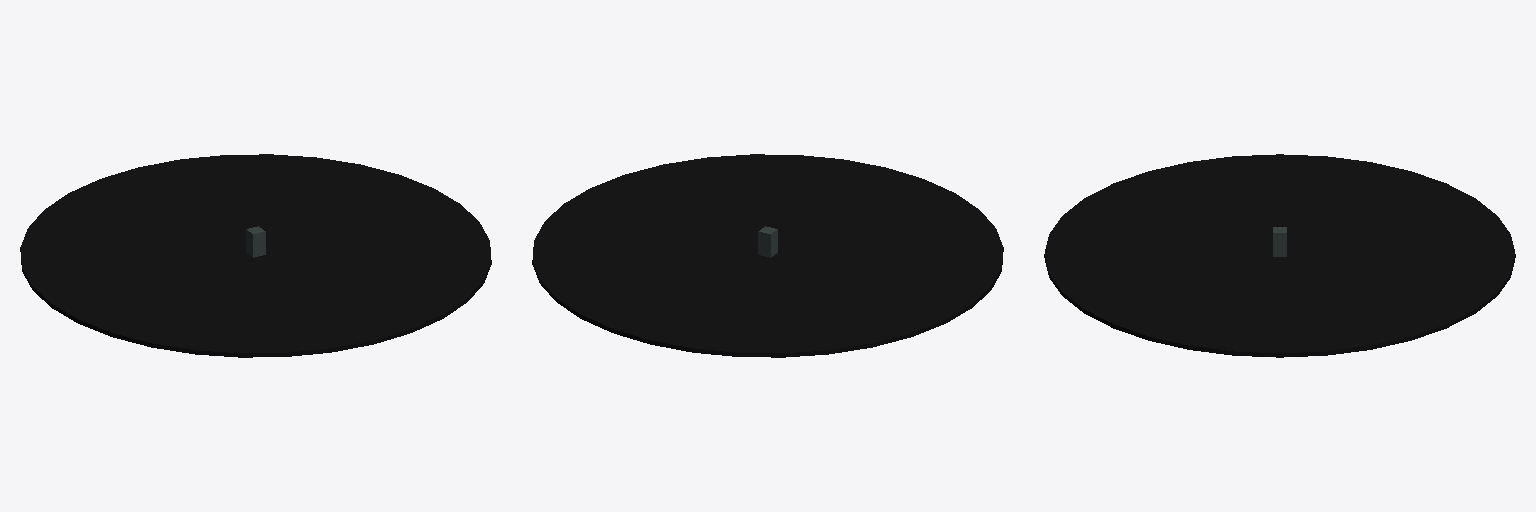
URDF robot description (two_arm_panda_tool):
<?xml version='1.0' encoding='utf-8'?>
<robot name="two_arm_panda_tool">


    <link name="base">
      <inertial>
        <origin xyz="0 0 0" rpy="0 0 0" />
        <mass value="4" />
        <inertia ixx="0.4" iyy="0.4" izz="0.4" ixy="0" ixz="0" iyz="0" />
      </inertial>
      <visual>
        <geometry>
          <cylinder radius="5" length="0.1"/>
        </geometry>
        <material name="material_gray">
          <color rgba="0.1 0.1 0.1 1.0" />
        </material>
      </visual>
<!--       <collision>
        <geometry>
          <cylinder radius="5" length="0.1"/>
        </geometry>
      </collision> -->
    </link>
    <link name="chest">
      <inertial>
        <origin xyz="0 0 0" rpy="0 0 0" />
        <mass value="4" />
        <inertia ixx="0.4" iyy="0.4" izz="0.4" ixy="0" ixz="0" iyz="0" />
      </inertial>
      <visual>
        <geometry>
          <box size="0.3 0.3 1.2"/>
        </geometry>
        <material name="material_red">
          <color rgba="0.27 0.3 0.3 1.0" />
        </material>        
      </visual>
<!--       <visual>
        <origin xyz="0 0 0.8" rpy="0 0 0" />
        <geometry>
          <sphere radius="0.15"/>
        </geometry>
        <material name="material_red">
          <color rgba="0.3 0.5 0.3 1.0" />
        </material>        
      </visual>
      <visual>
        <origin xyz="0 0 0.59" rpy="0 0 0" />
        <geometry>
          <cylinder radius="0.08" length="0.1"/>
        </geometry>
        <material name="material_red">
          <color rgba="0.3 0.3 0.5 1.0" />
        </material>        
      </visual> -->
      <visual>
        <origin xyz="0 0.15 0.5" rpy="-1.57079632679 0 0" />
        <geometry>
          <mesh filename="../../../Model/meshes/visual/link0.obj"/>
        </geometry>
      </visual>
      <visual>
        <origin xyz="0 -0.15 0.5" rpy="1.57079632679 0 0" />
        <geometry>
          <mesh filename="../../../Model/meshes/visual/link0.obj"/>
        </geometry>
      </visual>
<!--       <collision>
        <geometry>
          <box size="0.2 0.2 1.6"/>
        </geometry>
      </collision> -->
    </link>

<!--   LEFT ARM     -->

    <link name="left_arm_link1">
      <inertial>
        <origin xyz="0 0 -0.07" rpy="0 -0 0" />
        <mass value="3" />
        <inertia ixx="0.3" iyy="0.3" izz="0.3" ixy="0" ixz="0" iyz="0" />
      </inertial>
      <visual>
        <geometry>
          <mesh filename="../../../Model/meshes/visual/link1.obj"/>
        </geometry>
      </visual>
      <!-- <collision>
        <geometry>
          <mesh filename="../../../Model/meshes/collision/link1.obj"/>
        </geometry>
      </collision> -->
    </link>
    <link name="left_arm_link2">
      <inertial>
        <origin xyz="0 -0.1 0" rpy="0 -0 0" />
        <mass value="3" />
        <inertia ixx="0.3" iyy="0.3" izz="0.3" ixy="0" ixz="0" iyz="0" />
      </inertial>
      <visual>
        <geometry>
          <mesh filename="../../../Model/meshes/visual/link2.obj"/>
        </geometry>
      </visual>
      <!-- <collision>
        <geometry>
          <mesh filename="../../../Model/meshes/collision/link2.obj"/>
        </geometry>
      </collision> -->
    </link>
    <link name="left_arm_link3">
      <inertial>
        <origin xyz="0.04 0 -0.05" rpy="0 -0 0" />
        <mass value="2" />
        <inertia ixx="0.2" iyy="0.2" izz="0.2" ixy="0" ixz="0" iyz="0" />
      </inertial>
      <visual>
        <geometry>
          <mesh filename="../../../Model/meshes/visual/link3.obj"/>
        </geometry>
      </visual>
      <!-- <collision>
        <geometry>
          <mesh filename="../../../Model/meshes/collision/link3.obj"/>
        </geometry>
      </collision> -->
    </link>
    <link name="left_arm_link4">
      <inertial>
        <origin xyz="-0.04 0.05 0" rpy="0 -0 0" />
        <mass value="2" />
        <inertia ixx="0.2" iyy="0.2" izz="0.2" ixy="0" ixz="0" iyz="0" />
      </inertial>
      <visual>
        <geometry>
          <mesh filename="../../../Model/meshes/visual/link4.obj"/>
        </geometry>
      </visual>
<!--       <collision>
        <geometry>
          <mesh filename="../../../Model/meshes/collision/link4.obj"/>
        </geometry>
      </collision> -->
    </link>
    <link name="left_arm_link5">
      <inertial>
        <origin xyz="0 0 -0.15" rpy="0 -0 0" />
        <mass value="2" />
        <inertia ixx="0.2" iyy="0.2" izz="0.2" ixy="0" ixz="0" iyz="0" />
      </inertial>
      <visual>
        <geometry>
          <mesh filename="../../../Model/meshes/visual/link5.obj"/>
        </geometry>
      </visual>
<!--       <collision>
        <geometry>
          <mesh filename="../../../Model/meshes/collision/link5.obj"/>
        </geometry>
      </collision> -->
    </link>
    <link name="left_arm_link6">
      <inertial>
        <origin xyz="0.06 0 0" rpy="0 -0 0" />
        <mass value="1.5" />
        <inertia ixx="0.1" iyy="0.1" izz="0.1" ixy="0" ixz="0" iyz="0" />
      </inertial>
      <visual>
        <geometry>
          <mesh filename="../../../Model/meshes/visual/link6.obj"/>
        </geometry>
      </visual>
      <!-- <collision>
        <geometry>
          <mesh filename="../../../Model/meshes/collision/link6.obj"/>
        </geometry>
      </collision> -->
    </link>
    <link name="left_arm_link7">
      <inertial>
        <origin xyz="0 0 0.17" rpy="0 -0 0" />
        <mass value="1.8" />
        <inertia ixx="0.09" iyy="0.05" izz="0.07" ixy="0" ixz="0" iyz="0" />
      </inertial>
      <visual>
        <geometry>
          <mesh filename="../../../Model/meshes/visual/link7.obj"/>
        </geometry>
      </visual>
      <!-- <collision>
        <geometry>
          <mesh filename="../../../Model/meshes/collision/link7.obj"/>
        </geometry>
      </collision> -->
      <visual>
        <origin xyz="0 0 0.107" rpy="0 0 -0.78539816339" />
        <geometry>
          <mesh filename="../../../Model/meshes/visual/hand.obj"/>
        </geometry>
      </visual>
<!--       <collision>
        <origin xyz="0 0 0.107" rpy="0 0 -0.78539816339" />
        <geometry>
          <mesh filename="../../../Model/meshes/collision/hand.obj"/>
        </geometry>
      </collision> -->
    </link>
    <link name="left_arm_leftfinger">
      <inertial>
        <origin xyz="0 0 0.05" rpy="0 -0 0" />
        <mass value="0.1" />
        <inertia ixx="0.01" iyy="0.01" izz="0.005" ixy="0" ixz="0" iyz="0" />
      </inertial>
      <visual>
        <geometry>
          <mesh filename="../../../Model/meshes/visual/finger.obj"/>
        </geometry>
      </visual>
      <collision>
        <geometry>
          <mesh filename="../../../Model/meshes/collision/finger.obj"/>
        </geometry>
      </collision>
    </link>
    <link name="left_arm_rightfinger">
      <inertial>
        <origin xyz="0 0 0.05" rpy="0 -0 0" />
        <mass value="0.1" />
        <inertia ixx="0.01" iyy="0.01" izz="0.005" ixy="0" ixz="0" iyz="0" />
      </inertial>
      <visual>
        <origin xyz="0 0 0" rpy="0 0 3.14159265359" />
        <geometry>
          <mesh filename="../../../Model/meshes/visual/finger.obj"/>
        </geometry>
      </visual>
      <collision>
        <origin xyz="0 0 0" rpy="0 0 3.14159265359" />
        <geometry>
          <mesh filename="../../../Model/meshes/collision/finger.obj"/>
        </geometry>
      </collision>
    </link>

<!--   RIGHT ARM     -->

    <link name="right_arm_link1">
      <inertial>
        <origin xyz="0 0 -0.07" rpy="0 -0 0" />
        <mass value="3" />
        <inertia ixx="0.3" iyy="0.3" izz="0.3" ixy="0" ixz="0" iyz="0" />
      </inertial>
      <visual>
        <geometry>
          <mesh filename="../../../Model/meshes/visual/link1.obj"/>
        </geometry>
      </visual>
      <!-- <collision>
        <geometry>
          <mesh filename="../../../Model/meshes/collision/link1.obj"/>
        </geometry>
      </collision> -->
    </link>
    <link name="right_arm_link2">
      <inertial>
        <origin xyz="0 -0.1 0" rpy="0 -0 0" />
        <mass value="3" />
        <inertia ixx="0.3" iyy="0.3" izz="0.3" ixy="0" ixz="0" iyz="0" />
      </inertial>
      <visual>
        <geometry>
          <mesh filename="../../../Model/meshes/visual/link2.obj"/>
        </geometry>
      </visual>
      <!-- <collision>
        <geometry>
          <mesh filename="../../../Model/meshes/collision/link2.obj"/>
        </geometry>
      </collision> -->
    </link>
    <link name="right_arm_link3">
      <inertial>
        <origin xyz="0.04 0 -0.05" rpy="0 -0 0" />
        <mass value="2" />
        <inertia ixx="0.2" iyy="0.2" izz="0.2" ixy="0" ixz="0" iyz="0" />
      </inertial>
      <visual>
        <geometry>
          <mesh filename="../../../Model/meshes/visual/link3.obj"/>
        </geometry>
      </visual>
      <!-- <collision>
        <geometry>
          <mesh filename="../../../Model/meshes/collision/link3.obj"/>
        </geometry>
      </collision> -->
    </link>
    <link name="right_arm_link4">
      <inertial>
        <origin xyz="-0.04 0.05 0" rpy="0 -0 0" />
        <mass value="2" />
        <inertia ixx="0.2" iyy="0.2" izz="0.2" ixy="0" ixz="0" iyz="0" />
      </inertial>
      <visual>
        <geometry>
          <mesh filename="../../../Model/meshes/visual/link4.obj"/>
        </geometry>
      </visual>
<!--       <collision>
        <geometry>
          <mesh filename="../../../Model/meshes/collision/link4.obj"/>
        </geometry>
      </collision> -->
    </link>
    <link name="right_arm_link5">
      <inertial>
        <origin xyz="0 0 -0.15" rpy="0 -0 0" />
        <mass value="2" />
        <inertia ixx="0.2" iyy="0.2" izz="0.2" ixy="0" ixz="0" iyz="0" />
      </inertial>
      <visual>
        <geometry>
          <mesh filename="../../../Model/meshes/visual/link5.obj"/>
        </geometry>
      </visual>
<!--       <collision>
        <geometry>
          <mesh filename="../../../Model/meshes/collision/link5.obj"/>
        </geometry>
      </collision> -->
    </link>
    <link name="right_arm_link6">
      <inertial>
        <origin xyz="0.06 0 0" rpy="0 -0 0" />
        <mass value="1.5" />
        <inertia ixx="0.1" iyy="0.1" izz="0.1" ixy="0" ixz="0" iyz="0" />
      </inertial>
      <visual>
        <geometry>
          <mesh filename="../../../Model/meshes/visual/link6.obj"/>
        </geometry>
      </visual>
      <!-- <collision>
        <geometry>
          <mesh filename="../../../Model/meshes/collision/link6.obj"/>
        </geometry>
      </collision> -->
    </link>

    <link name="right_arm_link7">
      <inertial>
        <origin xyz="0 0 0.17" rpy="0 -0 0" />
        <mass value="1.8" />
        <inertia ixx="0.09" iyy="0.05" izz="0.07" ixy="0" ixz="0" iyz="0" />
      </inertial>
      <visual>
        <geometry>
          <mesh filename="../../../Model/meshes/visual/link7.obj"/>
        </geometry>
      </visual>
      <visual>
        <origin xyz="0 0 0.107" rpy="0 0 -0.78539816339" />
        <geometry>
          <mesh filename="../../../Model/meshes/visual/hand.obj"/>
        </geometry>
      </visual>
      <visual>
        <origin xyz="0.005 0.005 0.1654" rpy="0 0 -0.78539816339"/>
        <geometry>
          <mesh filename="../../../Model/meshes/visual/finger.obj"/>
        </geometry>
      </visual>
      <visual>
        <origin xyz="-0.005 -0.005 0.1654" rpy="0 0 2.35619449019"/>
        <geometry>
          <mesh filename="../../../Model/meshes/visual/finger.obj"/>
        </geometry>
      </visual>
      <visual>
        <origin xyz="0.3 -0.3 0.21" rpy="0 0 2.35619449019"/>
        <geometry>
          <mesh filename="../../../Model/objects/Assemble_tool_coarse.obj" />
        </geometry>
      </visual>

      <collision>
        <origin xyz="0.29 -0.29 0.21" rpy="0 -1.5709 2.35619449019"/>
        <geometry>
          <mesh filename="../../../Model/objects/tool_mesh.obj" />
        </geometry>
      </collision>
    </link>



<!-- //////////////////////////// JOINTS ///////////////////////////// -->


    <joint name="trunk" type="prismatic">
      <safety_controller k_position="100.0" k_velocity="40.0" soft_lower_limit="-2.8973" soft_upper_limit="2.8973"/>
      <origin rpy="0 0 0" xyz="0 0 0"/>
      <parent link="base"/>
      <child link="chest"/>
      <axis xyz="0 0 1"/>
      <limit effort="87" lower="-2.8973" upper="2.8973" velocity="2.1750"/>
    </joint>


<!--   LEFT ARM JOINT     -->

    <joint name="left_arm_joint1" type="revolute">
      <safety_controller k_position="100.0" k_velocity="40.0" soft_lower_limit="-2.8973" soft_upper_limit="2.8973"/>
      <origin rpy="-1.57079632679 0 0" xyz="0 0.483 0.5"/>
      <parent link="chest"/>
      <child link="left_arm_link1"/>
      <axis xyz="0 0 1"/>
      <limit effort="87" lower="-2.8973" upper="2.8973" velocity="2.1750"/>
    </joint>
    <joint name="left_arm_joint2" type="revolute">
      <safety_controller k_position="100.0" k_velocity="40.0" soft_lower_limit="-1.7628" soft_upper_limit="1.7628"/>
      <origin rpy="-1.57079632679 0 0" xyz="0 0 0"/>
      <parent link="left_arm_link1"/>
      <child link="left_arm_link2"/>
      <axis xyz="0 0 1"/>
      <calibration falling="40.0" />
      <limit effort="87" lower="-1.7628" upper="1.7628" velocity="2.1750"/>
    </joint>
    <joint name="left_arm_joint3" type="revolute">
      <safety_controller k_position="100.0" k_velocity="40.0" soft_lower_limit="-2.8973" soft_upper_limit="2.8973"/>
      <origin rpy="1.57079632679 0 0" xyz="0 -0.316 0"/>
      <parent link="left_arm_link2"/>
      <child link="left_arm_link3"/>
      <axis xyz="0 0 1"/>
      <limit effort="87" lower="-2.8973" upper="2.8973" velocity="2.1750"/>
    </joint>
    <joint name="left_arm_joint4" type="revolute">
      <safety_controller k_position="100.0" k_velocity="40.0" soft_lower_limit="-3.0718" soft_upper_limit="-0.0698"/>
      <origin rpy="1.57079632679 0 0" xyz="0.0825 0 0"/>
      <parent link="left_arm_link3"/>
      <child link="left_arm_link4"/>
      <axis xyz="0 0 1"/>
      <calibration falling="-125.0" />
      <limit effort="87" lower="-3.0718" upper="-0.0698" velocity="2.1750"/>
    </joint>
    <joint name="left_arm_joint5" type="revolute">
      <safety_controller k_position="100.0" k_velocity="40.0" soft_lower_limit="-2.8973" soft_upper_limit="2.8973"/>
      <origin rpy="-1.57079632679 0 0" xyz="-0.0825 0.384 0"/>
      <parent link="left_arm_link4"/>
      <child link="left_arm_link5"/>
      <axis xyz="0 0 1"/>
      <limit effort="12" lower="-2.8973" upper="2.8973" velocity="2.6100"/>
    </joint>
    <joint name="left_arm_joint6" type="revolute">
      <safety_controller k_position="100.0" k_velocity="40.0" soft_lower_limit="-0.0175" soft_upper_limit="3.7525"/>
      <origin rpy="1.57079632679 0 0" xyz="0 0 0"/>
      <parent link="left_arm_link5"/>
      <child link="left_arm_link6"/>
      <axis xyz="0 0 1"/>
      <calibration falling="165.0" />
      <limit effort="12" lower="-0.0175" upper="3.7525" velocity="2.6100"/>
    </joint>
    <joint name="left_arm_joint7" type="revolute">
      <safety_controller k_position="100.0" k_velocity="40.0" soft_lower_limit="-2.8973" soft_upper_limit="2.8973"/>
      <origin rpy="1.57079632679 0 0" xyz="0.088 0 0"/>
      <parent link="left_arm_link6"/>
      <child link="left_arm_link7"/>
      <axis xyz="0 0 1"/>
      <calibration falling="45.0" />
      <limit effort="12" lower="-2.8973" upper="2.8973" velocity="2.6100"/>
    </joint>
    <joint name="left_arm_finger_joint1" type="prismatic">
      <parent link="left_arm_link7"/>
      <child link="left_arm_leftfinger"/>
      <origin xyz="0 0 0.1654" rpy="0 0 -0.78539816339"/>
      <axis xyz="0 1 0"/>
      <calibration rising="0.02" />
      <limit effort="20" lower="0.0" upper="0.04" velocity="0.2"/>
    </joint>
    <joint name="left_arm_finger_joint2" type="prismatic">
      <parent link="left_arm_link7"/>
      <child link="left_arm_rightfinger"/>
      <origin xyz="0 0 0.1654" rpy="0 0 -0.78539816339"/>
      <axis xyz="0 1 0"/>
      <calibration rising="-0.02" />
      <limit effort="20" lower="0.0" upper="0.04" velocity="0.2"/>
      <!-- <mimic joint="finger_joint1" /> -->
    </joint>

<!--   RIGHT ARM JOINT     -->

    <joint name="right_arm_joint1" type="revolute">
      <safety_controller k_position="100.0" k_velocity="40.0" soft_lower_limit="-2.8973" soft_upper_limit="2.8973"/>
      <origin rpy="1.57079632679 0 0" xyz="0 -0.483 0.5"/>
      <parent link="chest"/>
      <child link="right_arm_link1"/>
      <axis xyz="0 0 1"/>
      <limit effort="87" lower="-2.8973" upper="2.8973" velocity="2.1750"/>
    </joint>
    <joint name="right_arm_joint2" type="revolute">
      <safety_controller k_position="100.0" k_velocity="40.0" soft_lower_limit="-1.7628" soft_upper_limit="1.7628"/>
      <origin rpy="-1.57079632679 0 0" xyz="0 0 0"/>
      <parent link="right_arm_link1"/>
      <child link="right_arm_link2"/>
      <axis xyz="0 0 1"/>
      <calibration falling="75.0" />
      <limit effort="87" lower="-1.7628" upper="1.7628" velocity="2.1750"/>
    </joint>
    <joint name="right_arm_joint3" type="revolute">
      <safety_controller k_position="100.0" k_velocity="40.0" soft_lower_limit="-2.8973" soft_upper_limit="2.8973"/>
      <origin rpy="1.57079632679 0 0" xyz="0 -0.316 0"/>
      <parent link="right_arm_link2"/>
      <child link="right_arm_link3"/>
      <axis xyz="0 0 1"/>
      <limit effort="87" lower="-2.8973" upper="2.8973" velocity="2.1750"/>
    </joint>
    <joint name="right_arm_joint4" type="revolute">
      <safety_controller k_position="100.0" k_velocity="40.0" soft_lower_limit="-3.0718" soft_upper_limit="-0.0698"/>
      <origin rpy="1.57079632679 0 0" xyz="0.0825 0 0"/>
      <parent link="right_arm_link3"/>
      <child link="right_arm_link4"/>
      <axis xyz="0 0 1"/>
      <calibration falling="-75.0" />
      <limit effort="87" lower="-3.0718" upper="-0.0698" velocity="2.1750"/>
    </joint>
    <joint name="right_arm_joint5" type="revolute">
      <safety_controller k_position="100.0" k_velocity="40.0" soft_lower_limit="-2.8973" soft_upper_limit="2.8973"/>
      <origin rpy="-1.57079632679 0 0" xyz="-0.0825 0.384 0"/>
      <parent link="right_arm_link4"/>
      <child link="right_arm_link5"/>
      <axis xyz="0 0 1"/>
      <limit effort="12" lower="-2.8973" upper="2.8973" velocity="2.6100"/>
    </joint>
    <joint name="right_arm_joint6" type="revolute">
      <safety_controller k_position="100.0" k_velocity="40.0" soft_lower_limit="-0.0175" soft_upper_limit="3.7525"/>
      <origin rpy="1.57079632679 0 0" xyz="0 0 0"/>
      <parent link="right_arm_link5"/>
      <child link="right_arm_link6"/>
      <axis xyz="0 0 1"/>
      <calibration falling="150.0" />
      <limit effort="12" lower="-0.0175" upper="3.7525" velocity="2.6100"/>
    </joint>
    <joint name="right_arm_joint7" type="revolute">
      <safety_controller k_position="100.0" k_velocity="40.0" soft_lower_limit="-2.8973" soft_upper_limit="2.8973"/>
      <origin rpy="1.57079632679 0 0" xyz="0.088 0 0"/>
      <parent link="right_arm_link6"/>
      <child link="right_arm_link7"/>
      <axis xyz="0 0 1"/>
      <calibration falling="45.0" />
      <limit effort="12" lower="-2.8973" upper="2.8973" velocity="2.6100"/>
    </joint>
<!--     <joint name="right_arm_finger_joint1" type="prismatic">
      <parent link="right_arm_link7"/>
      <child link="right_arm_leftfinger"/>
      <origin xyz="0 0 0.1654" rpy="0 0 -0.78539816339"/>
      <axis xyz="0 1 0"/>
      <calibration rising="0.02" />
      <limit effort="20" lower="0.0" upper="0.04" velocity="0.2"/>
    </joint>
    <joint name="right_arm_finger_joint2" type="prismatic">
      <parent link="right_arm_link7"/>
      <child link="right_arm_rightfinger"/>
      <origin xyz="0 0 0.1654" rpy="0 0 -0.78539816339"/>
      <axis xyz="0 1 0"/>
      <calibration rising="-0.02" />
      <limit effort="20" lower="0.0" upper="0.04" velocity="0.2"/>
      <mimic joint="finger_joint1" />
    </joint> -->


</robot>

--- Facts derived from the render (not from the file) ---
Views: 3 orthographic renders of the robot side by side, from view 1: azimuth 30°, elevation 25°; view 2: azimuth 150°, elevation 25°; view 3: azimuth 270°, elevation 25°.
Model two_arm_panda_tool with 18 links and 17 joints (14 revolute, 3 prismatic), rooted at base, posed joints at zero except 2 at the middle of their limits (left_arm_joint4 = -1.57, right_arm_joint4 = -1.57).
Links seen in each view (by area): view 1: base, chest; view 2: base, chest; view 3: base.
Link boxes in pixels (x1,y1,x2,y2): base: [20, 154, 491, 357]; chest: [246, 226, 265, 257]; base: [532, 154, 1003, 357]; chest: [758, 226, 777, 257]; base: [1044, 154, 1515, 357].
Size in the robot's own frame: 10 by 10 by 1.2 metres.
Geometry: only primitive shapes (box / cylinder / sphere) drawn; not drawn: 23 mesh visuals (reference in a form the renderer does not follow).